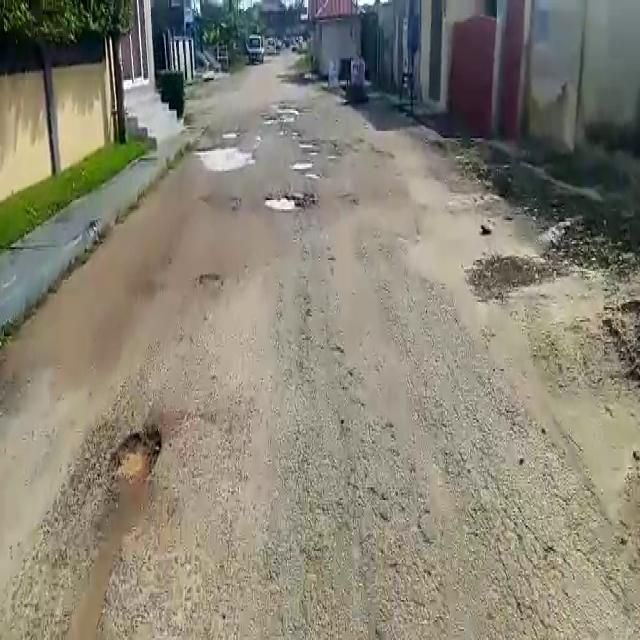Pothole: (112, 426, 159, 486), (200, 144, 256, 171), (261, 191, 308, 214), (293, 161, 321, 173)
